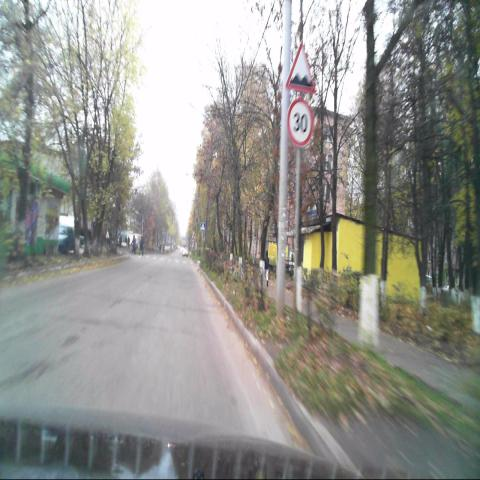1_16: (285, 43, 315, 94)
